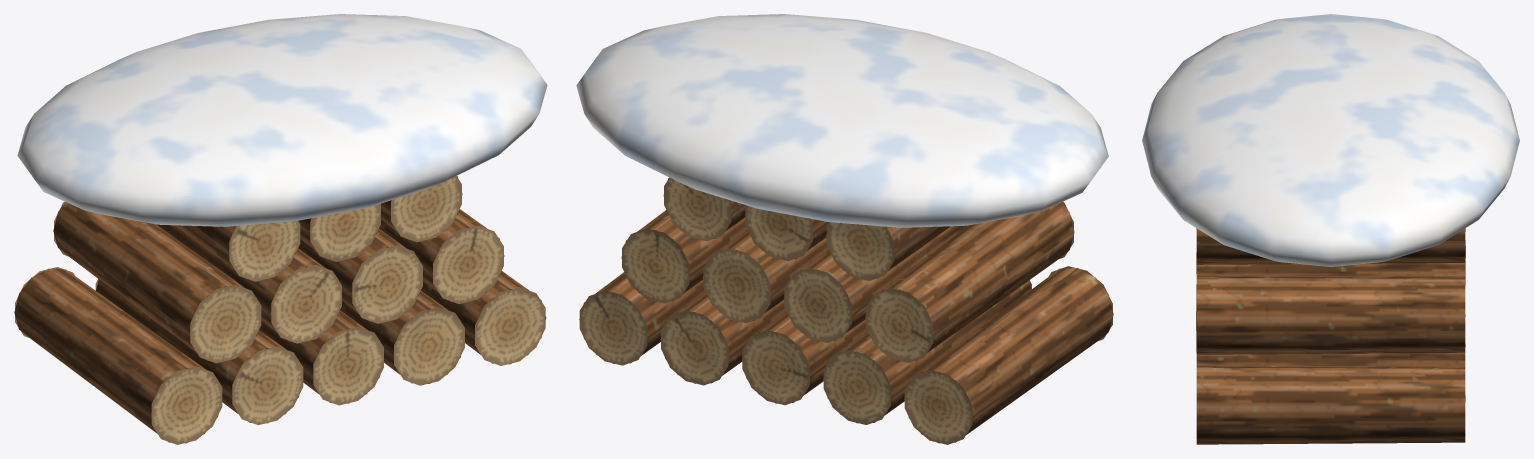
File: woodpile.glb
3 views of the same model, side by side, from view 1: azimuth 30°, elevation 25°; view 2: azimuth 150°, elevation 25°; view 3: azimuth 270°, elevation 25° (orthographic). The views are drawn at different scales.
Parts seen in each view (by area): view 1: Woodpile; view 2: Woodpile; view 3: Woodpile.
Boxes of the visible parts, x1=… form: Woodpile: x1=14, y1=14, x2=547, y2=444; Woodpile: x1=576, y1=14, x2=1113, y2=444; Woodpile: x1=1142, y1=14, x2=1519, y2=444.
Size of the model in its own units: 1.65 by 0.905 by 1.13.
Materials: 1 (1 with a texture image).
